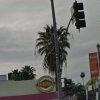Tree: (24, 18, 76, 89)
